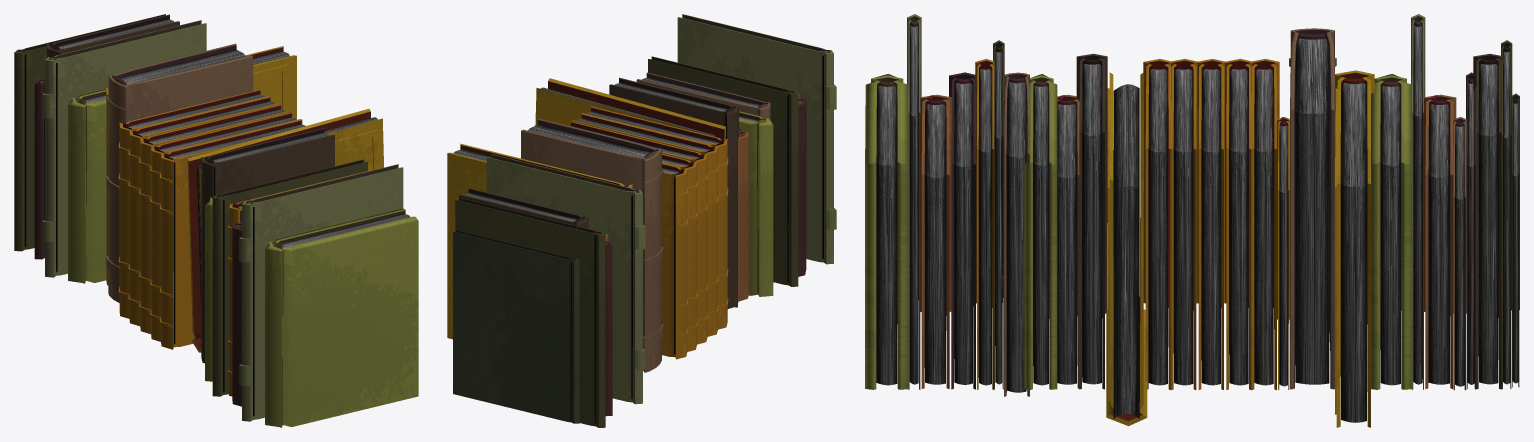
File: Shelf15.fbx
3 renders of one model, left to right at view 1: azimuth 30°, elevation 25°; view 2: azimuth 150°, elevation 25°; view 3: azimuth 270°, elevation 25°, orthographic. The views are drawn at different scales.
Visible parts, largest first — view 1: pCube11 (×3), pCube14 (×2), pCube67 (×2), pCube71, pCube12 (×2), pCube68 (×2), pCube100, pCube15 (×2), pCube69 (×2), pCube97, pCube98, pCube99 (+12 smaller); view 2: pCube14 (×2), pCube66, pCube67 (×2), pCube71 (×2), pCube12 (×2), pCube68 (×2), pCube15, pCube11, pCube99, pCube69 (×2), pCube98, pCube100 (+12 smaller); view 3: pCube11 (×3), pages13 (×2), pages14 (×2), pages17 (×3), pages15 (×3), pages8 (×2), pages11 (×2), pCube12 (×2), pages9 (×2), pCube72 (×3), pages16 (×2), pages21 (+20 smaller).
Part boxes in pixels (bbox=[...]): pCube11 (×3): bbox=[68, 88, 418, 427]; pCube14 (×2): bbox=[42, 20, 403, 421]; pCube67 (×2): bbox=[14, 14, 367, 396]; pCube71: bbox=[105, 43, 253, 302]; pCube12 (×2): bbox=[106, 46, 383, 352]; pCube68 (×2): bbox=[46, 14, 334, 363]; pCube100: bbox=[160, 119, 302, 349]; pCube15 (×2): bbox=[118, 89, 370, 396]; pCube69 (×2): bbox=[34, 79, 241, 406]; pCube97: bbox=[128, 96, 280, 326]; pCube98: bbox=[139, 104, 291, 334]; pCube99: bbox=[150, 112, 301, 341]; pCube14 (×2): bbox=[486, 14, 836, 404]; pCube66: bbox=[453, 230, 579, 423]; pCube67 (×2): bbox=[455, 56, 798, 427]; pCube71 (×2): bbox=[521, 72, 771, 372]; pCube12 (×2): bbox=[447, 78, 725, 339]; pCube68 (×2): bbox=[459, 77, 738, 308]; pCube15: bbox=[662, 163, 688, 359]; pCube11: bbox=[739, 111, 773, 296]; pCube99: bbox=[571, 113, 718, 336]; pCube69 (×2): bbox=[605, 98, 806, 416]; pCube98: bbox=[570, 121, 708, 344]; pCube100: bbox=[582, 106, 728, 329]; pCube11 (×3): bbox=[865, 74, 1411, 389]; pages13 (×2): bbox=[1007, 38, 1329, 392]; pages14 (×2): bbox=[1113, 83, 1366, 422]; pages17 (×3): bbox=[925, 104, 1449, 384]; pages15 (×3): bbox=[876, 86, 1400, 385]; pages8 (×2): bbox=[1082, 64, 1498, 384]; pages11 (×2): bbox=[979, 69, 1273, 385]; pCube12 (×2): bbox=[1106, 70, 1374, 427]; pages9 (×2): bbox=[954, 83, 1474, 384]; pCube72 (×3): bbox=[920, 94, 1456, 388]; pages16 (×2): bbox=[909, 26, 1422, 384]; pages21: bbox=[1229, 69, 1248, 385].
Size of the model in its own units: 1.11 by 1.07 by 2.17.
